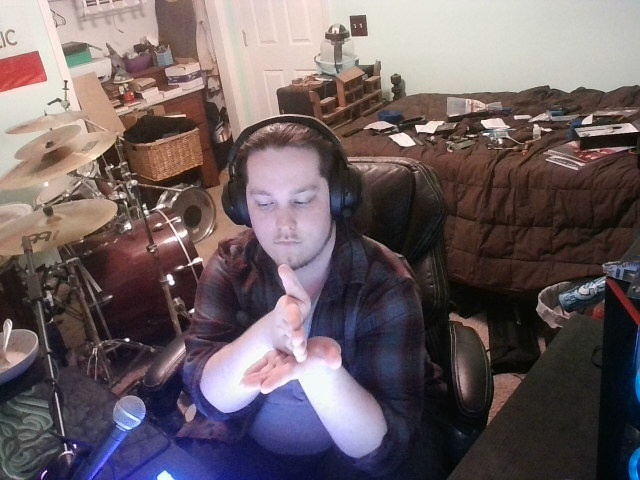stop: (222, 251, 370, 405)
